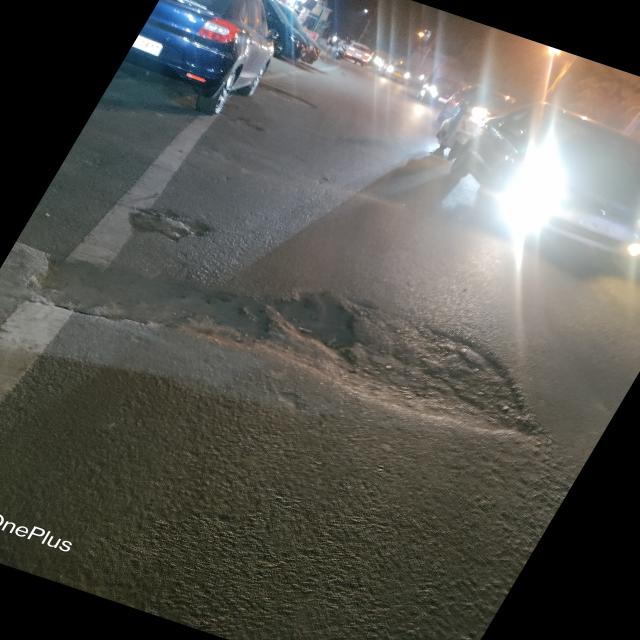potholes: (30, 205, 547, 440)
